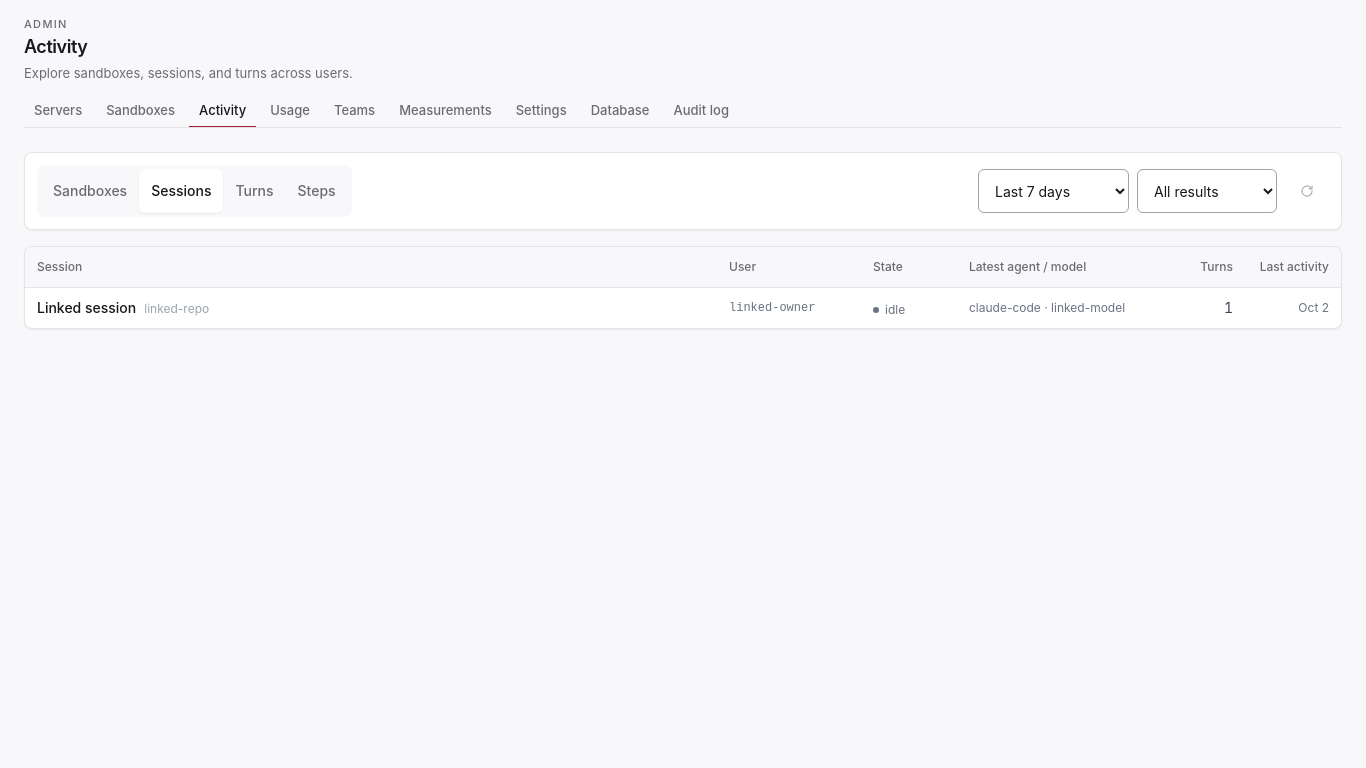
it: sandboxes in admin activity › aborts a pending sandbox inventory when returning to sessions
Expected: the link "Linked session" is shown, [37,298,136,318]
Step 1. Click the button "Sandboxes" → (90, 191), box [41,169,139,213]
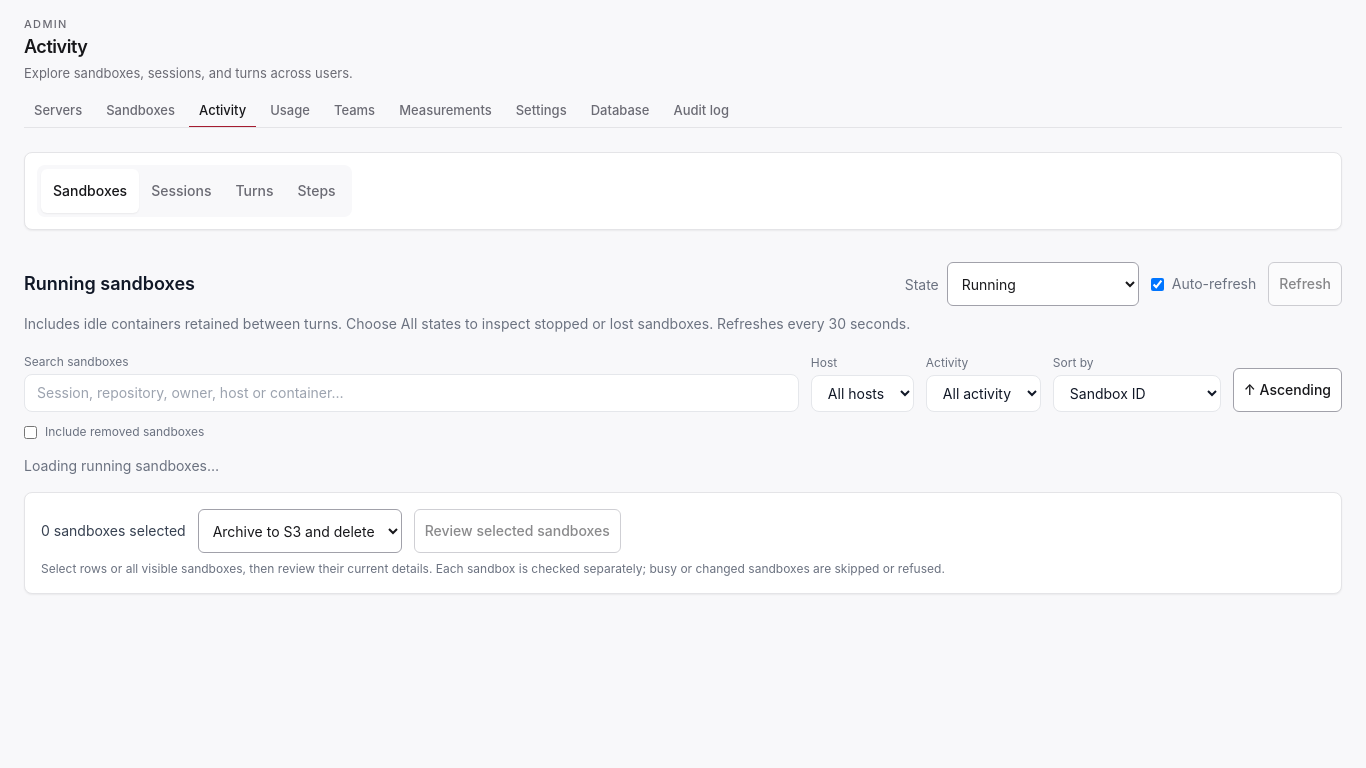
Step 2. Click the button "Sessions" → (181, 191), box [139,169,224,213]
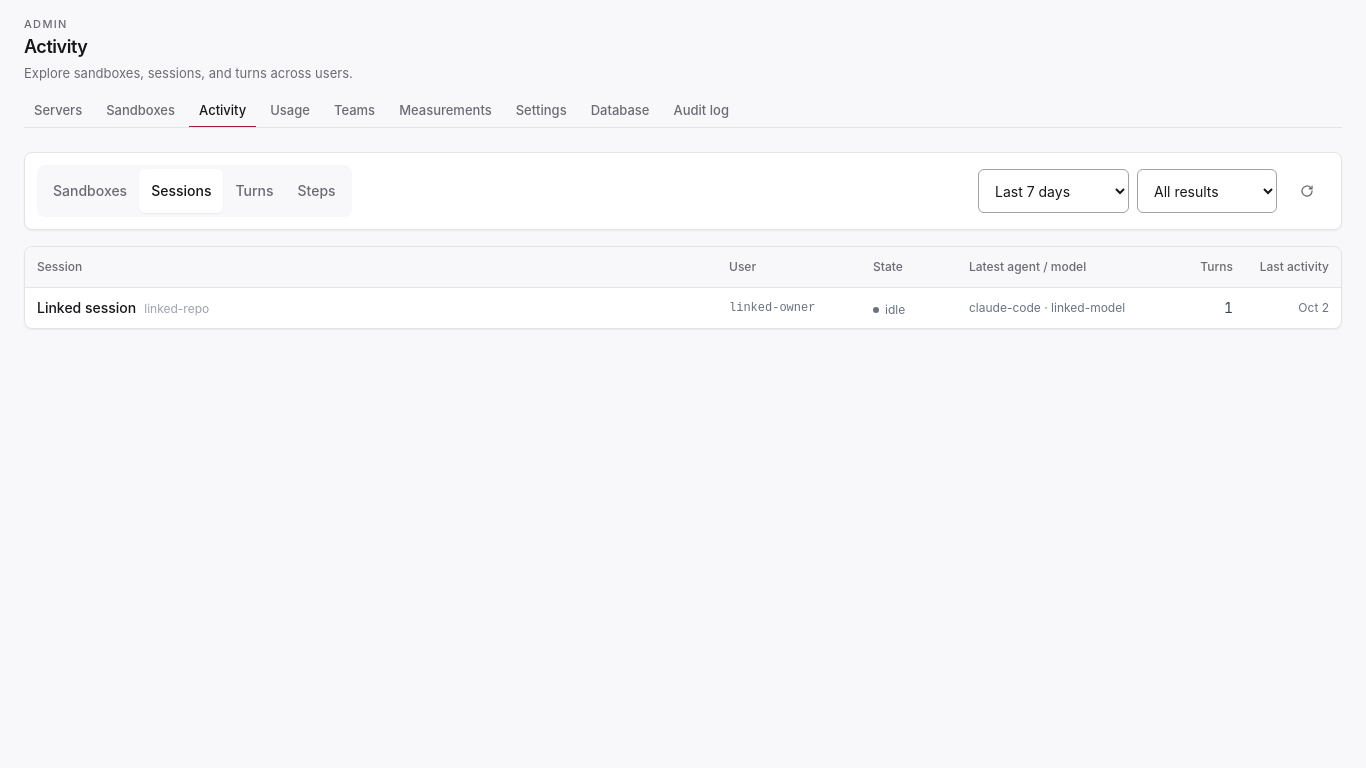
Now the link "Linked session" is shown, box [37,298,136,318]
